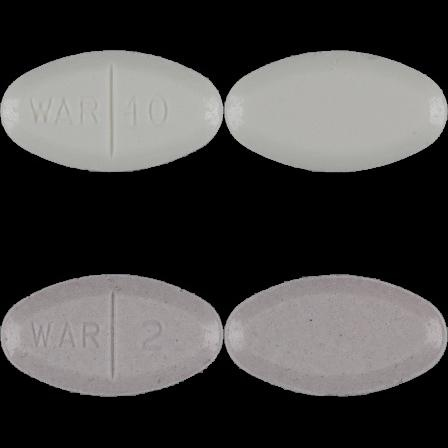52125-909: (0, 0, 224, 224)
